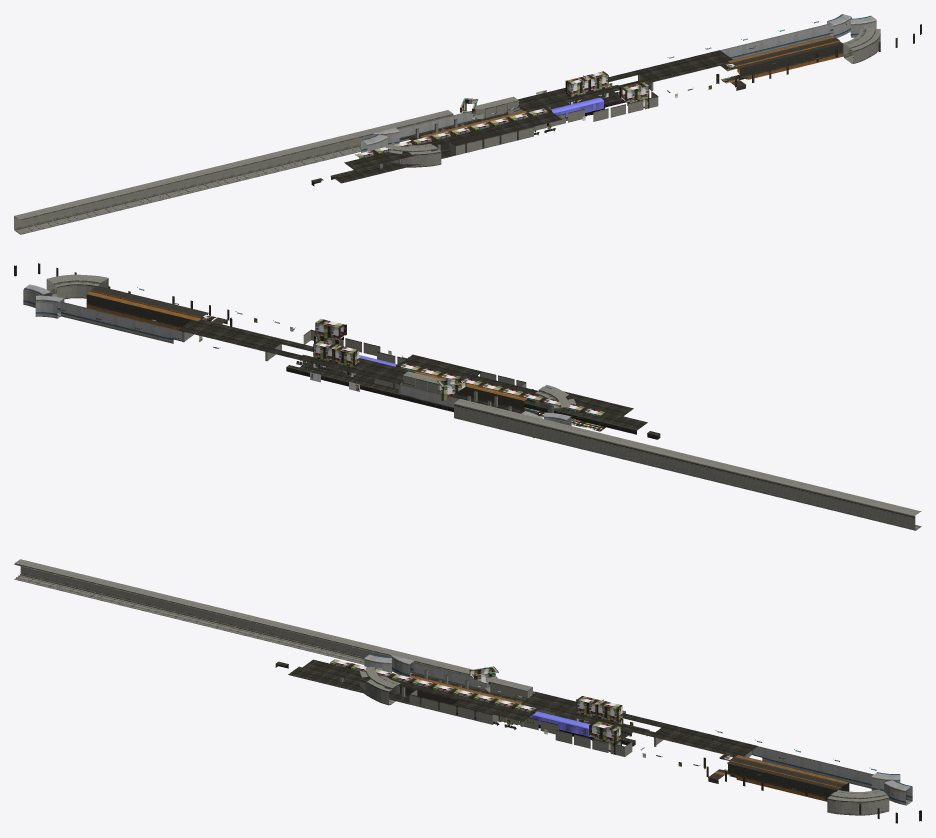
Rendered from Subway.glb.
The picture shows the model from 3 angles, top to bottom: view 1: azimuth 30°, elevation 25°; view 2: azimuth 150°, elevation 25°; view 3: azimuth 330°, elevation 25°; orthographic projection. The views are drawn at different scales.
Visible parts, largest first — view 1: Subway; view 2: Subway; view 3: Subway.
Part boxes in pixels (<box>): Subway: <box>14,14,921,234</box>; Subway: <box>14,263,921,530</box>; Subway: <box>14,559,921,823</box>.
Size of the model in its own units: 2379 by 69.36 by 190.
13 materials, 12 textured.
